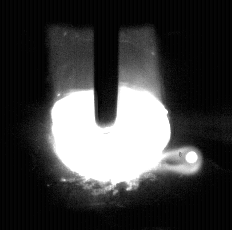arame: (95, 0, 119, 128)
poca: (52, 0, 173, 230)
